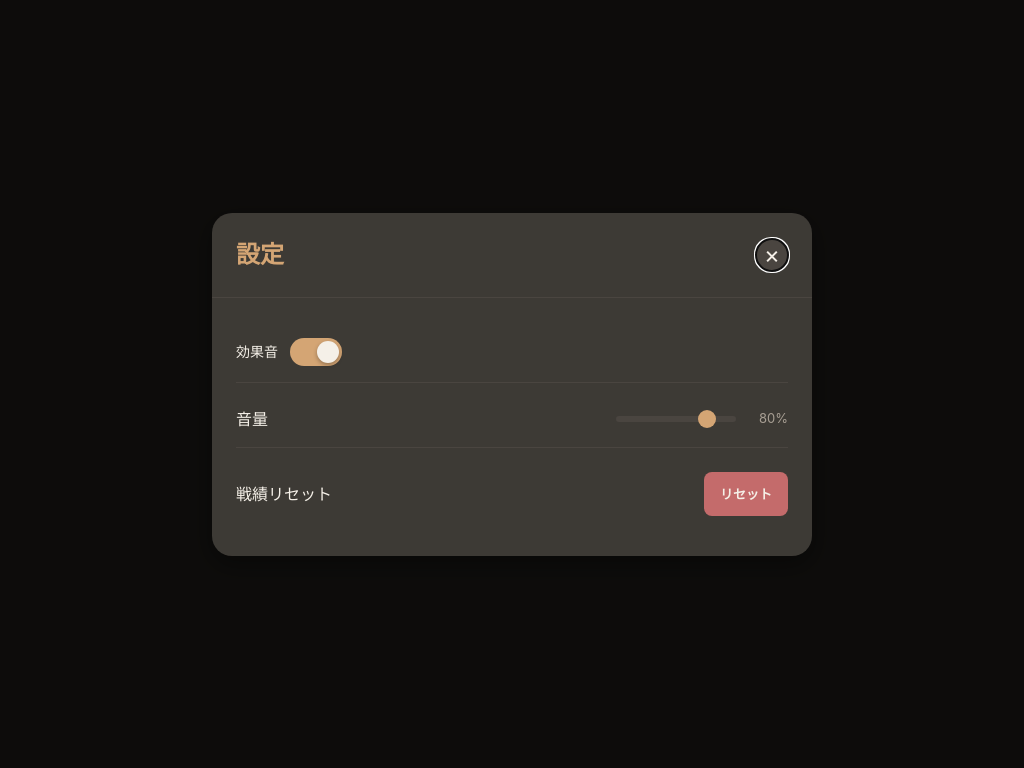
SettingsModal › Stats Reset › closes confirmation dialog when cancel is clicked
Click the button "リセット".
click(746, 494)  # box [704,472,788,516]
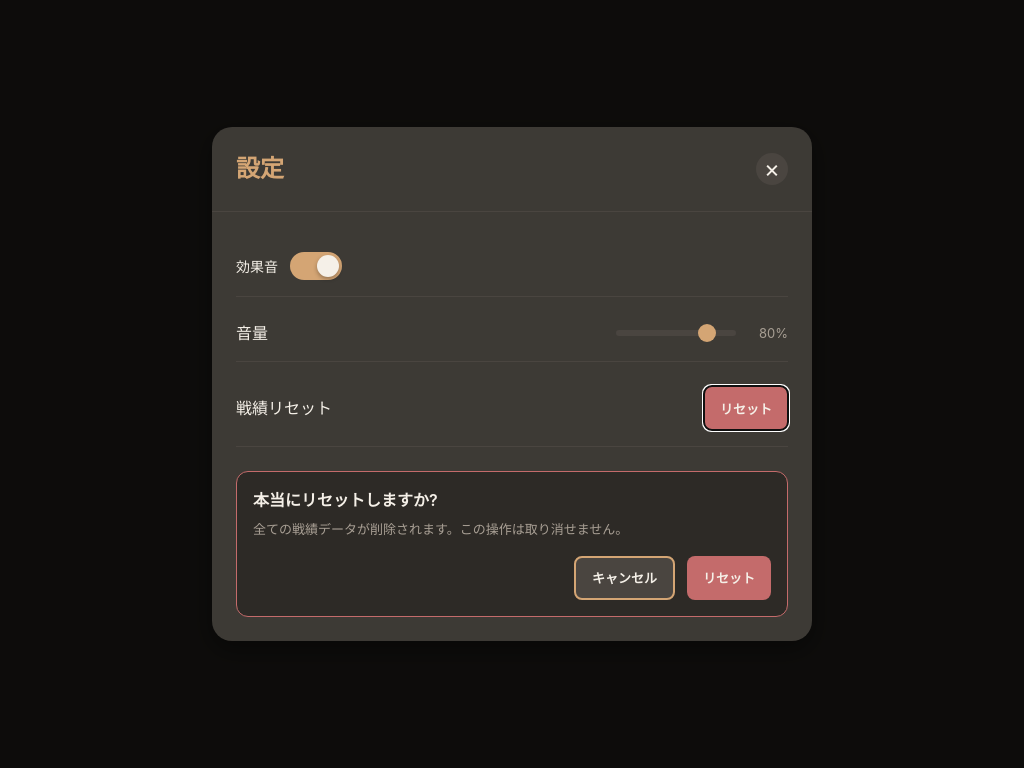
Now the text "本当にリセットしますか?" is shown, box [253,490,438,510]
Click the button "キャンセル".
click(624, 578)  # box [574,556,675,600]
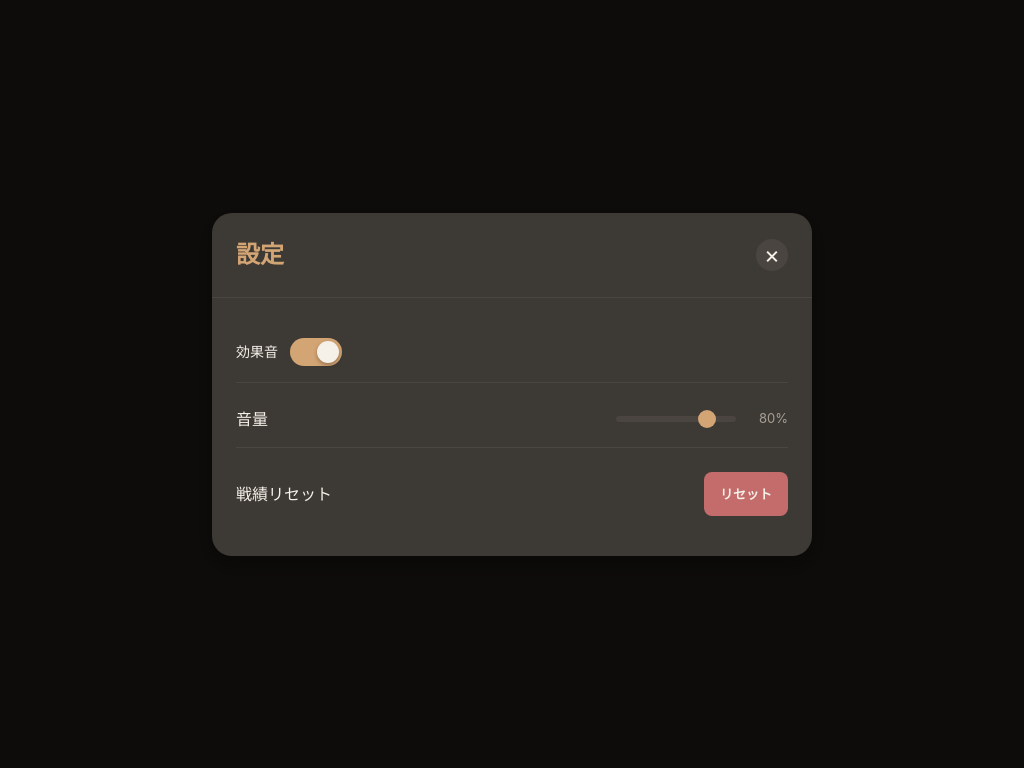
Now the text "本当にリセットしますか?" is gone
